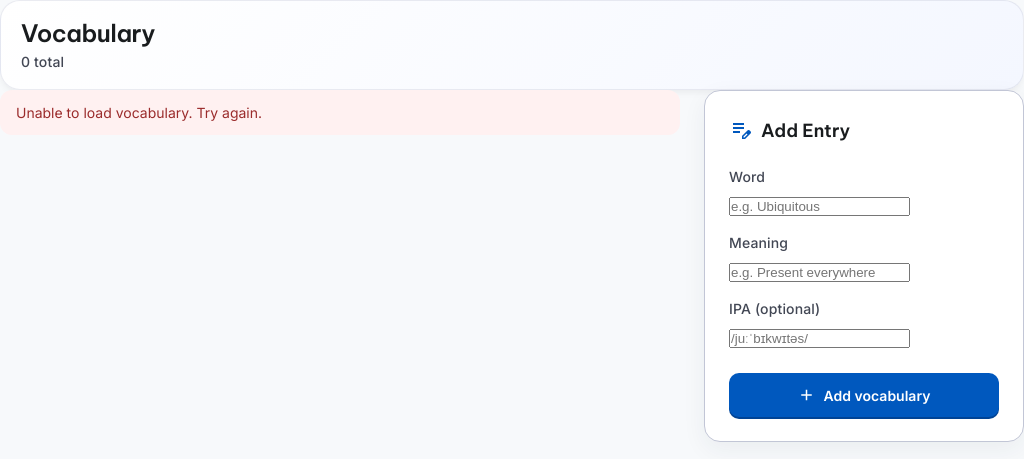
Test: TEST-013 vocabulary and IPA UI › shows validation and load errors
The width and height of the screenshot is (1024, 459).
Expected: the message shows "Unable to load", [16, 104, 262, 121]
Click the button "Add vocabulary". click: {"x": 864, "y": 395}
box: [729, 373, 999, 417]
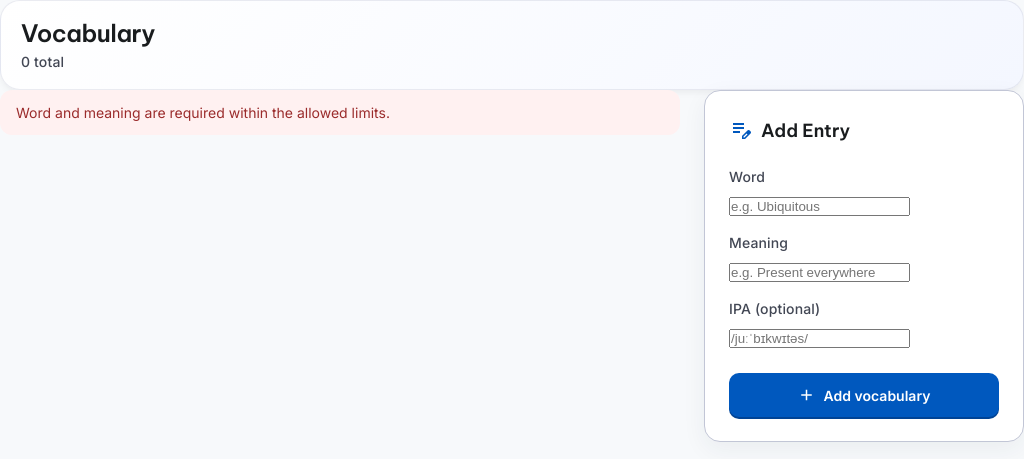
Expected: the message shows "required", [16, 104, 390, 121]
